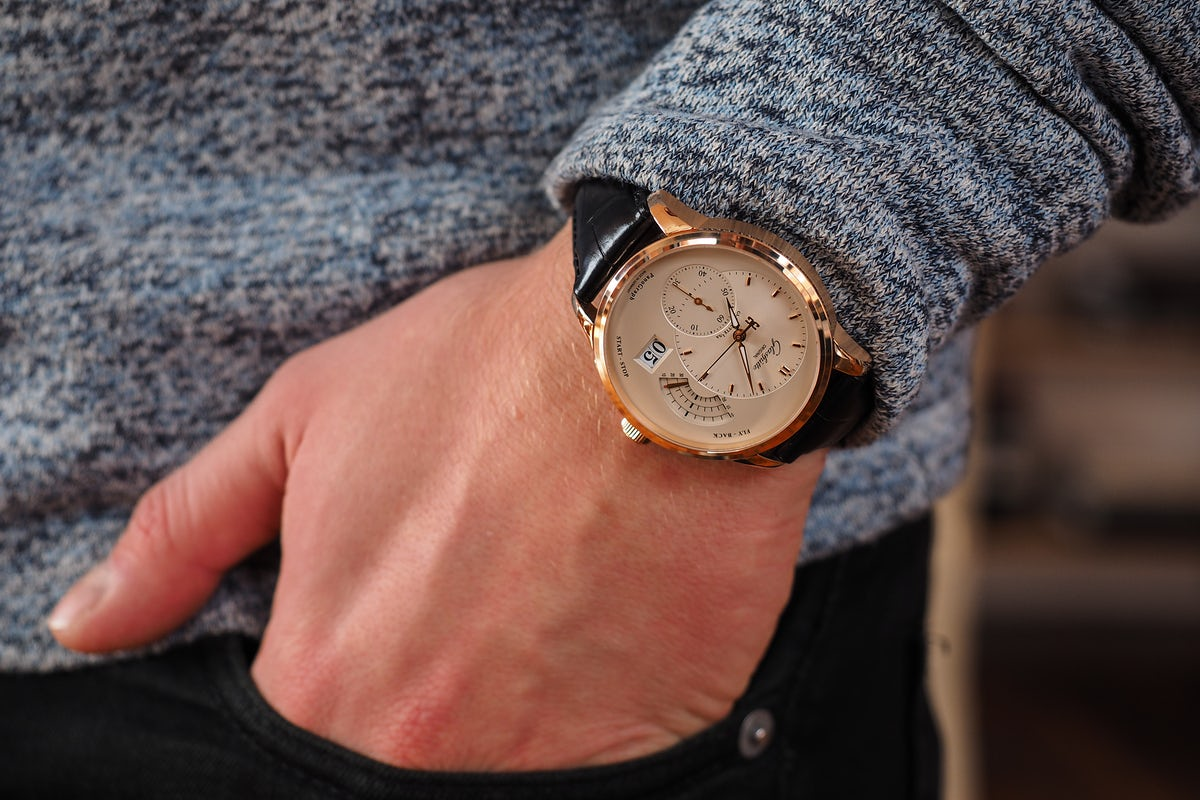clock: (606, 249, 818, 452)
